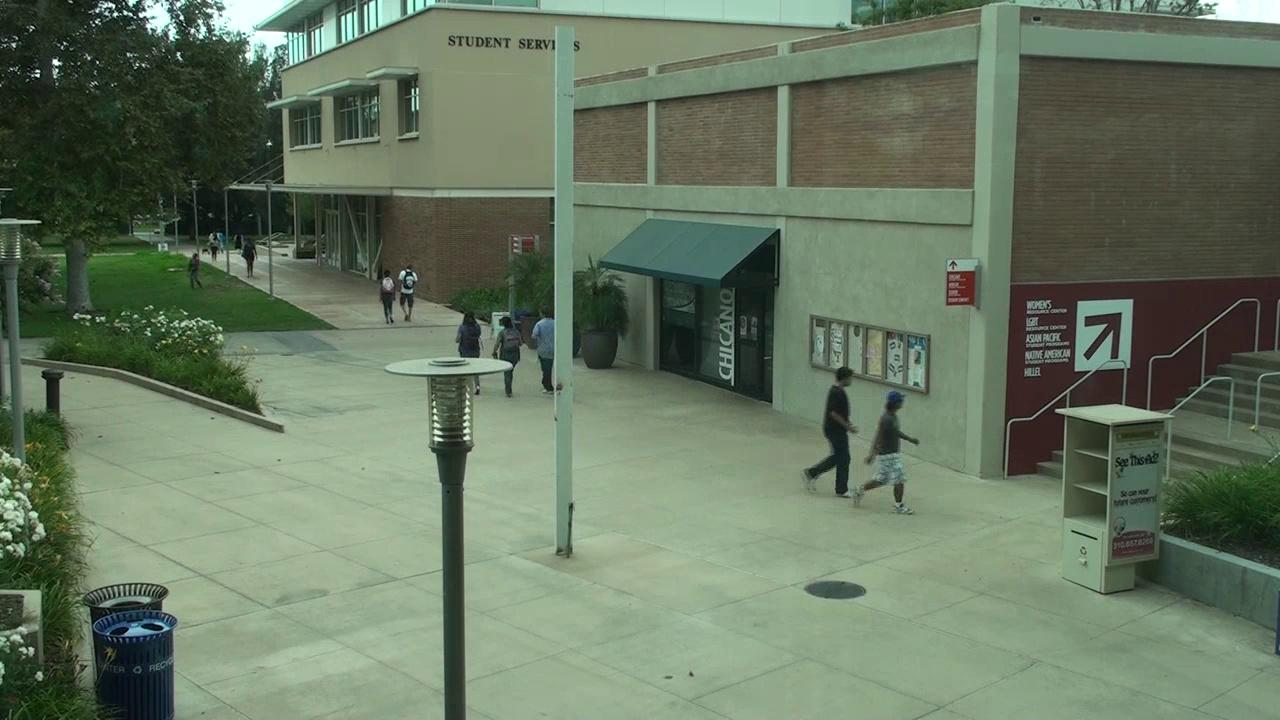person: (855, 391, 919, 514), (803, 367, 856, 497), (532, 310, 559, 391), (493, 317, 522, 367), (456, 312, 483, 357), (399, 265, 418, 321), (380, 271, 395, 323), (241, 238, 256, 277), (188, 250, 201, 287), (504, 372, 512, 397)
